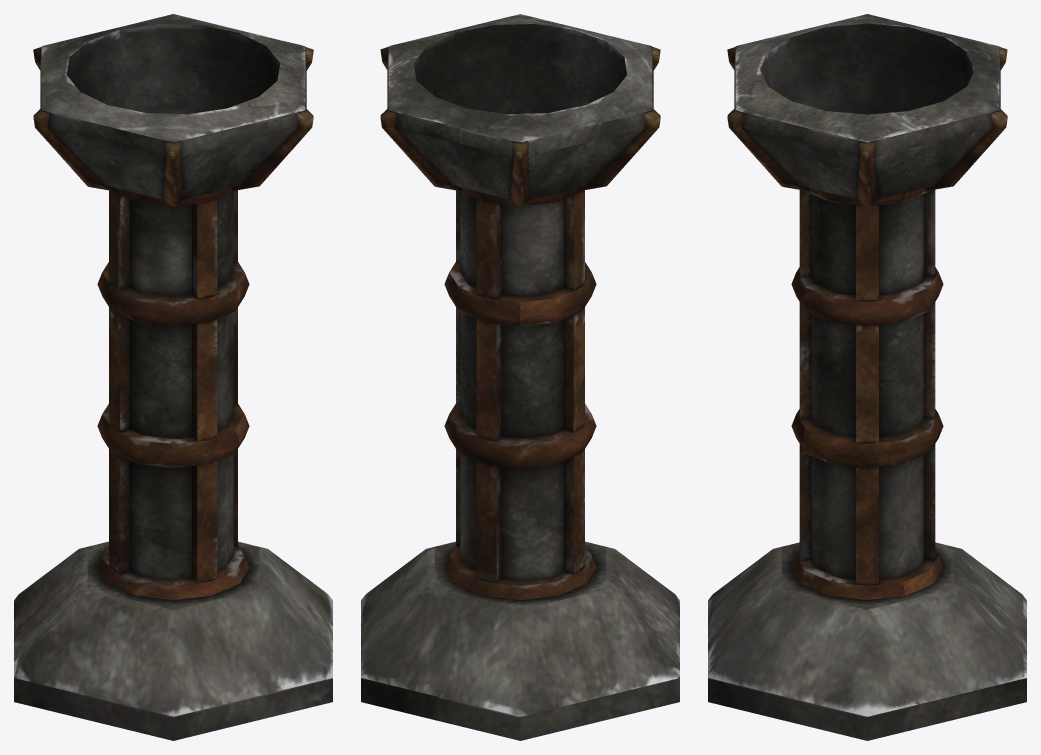
File: orb_pedestal.dae
3 renders of one model, left to right at view 1: azimuth 30°, elevation 25°; view 2: azimuth 150°, elevation 25°; view 3: azimuth 270°, elevation 25°, orthographic.
Parts seen in each view (by area): view 1: polySurface29; view 2: polySurface29; view 3: polySurface29.
Part boxes in pixels (left/top/right/bottom): polySurface29: left=14, top=14, right=332, bottom=740; polySurface29: left=361, top=14, right=679, bottom=740; polySurface29: left=708, top=14, right=1026, bottom=740.
Bounding box in the file's own units: 0.6938 × 1.24 × 0.6009.
